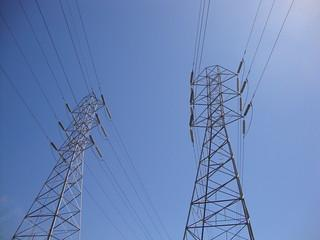power_tower: (12, 82, 116, 240), (176, 55, 265, 236)
